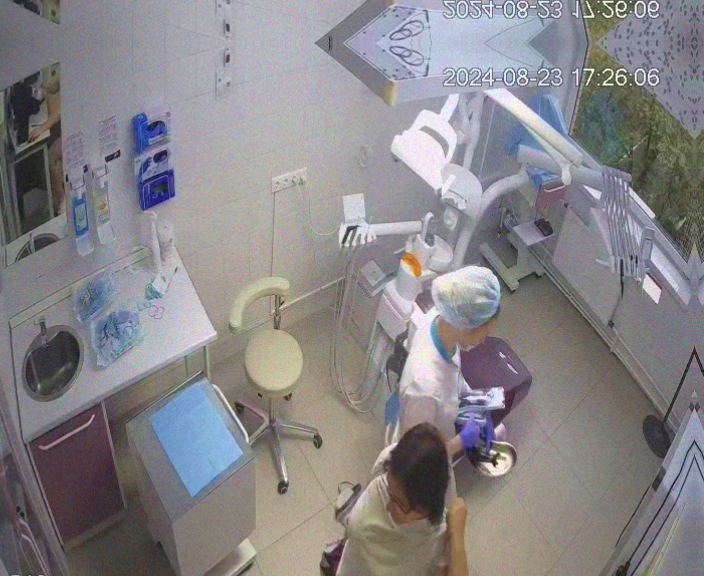Empty: (386, 295, 535, 422)
